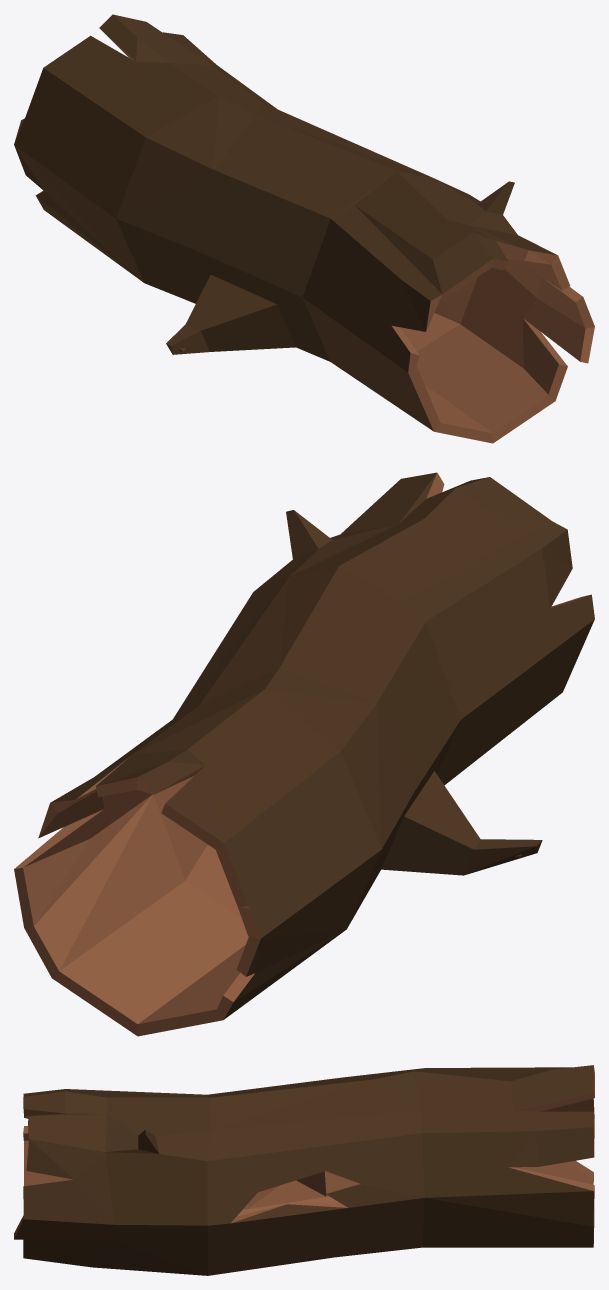
Rendered from Log.fbx.
3 views of the same model, one above another, from view 1: azimuth 30°, elevation 25°; view 2: azimuth 150°, elevation 25°; view 3: azimuth 270°, elevation 25° (orthographic). The views are drawn at different scales.
Parts seen in each view (by area): view 1: Log; view 2: Log; view 3: Log.
Part boxes in pixels (x1,y1,x2,y2): Log: (14, 14, 594, 443); Log: (14, 472, 594, 1036); Log: (14, 1065, 594, 1275).
Bounding box in the file's own units: 497 × 344 × 996.
